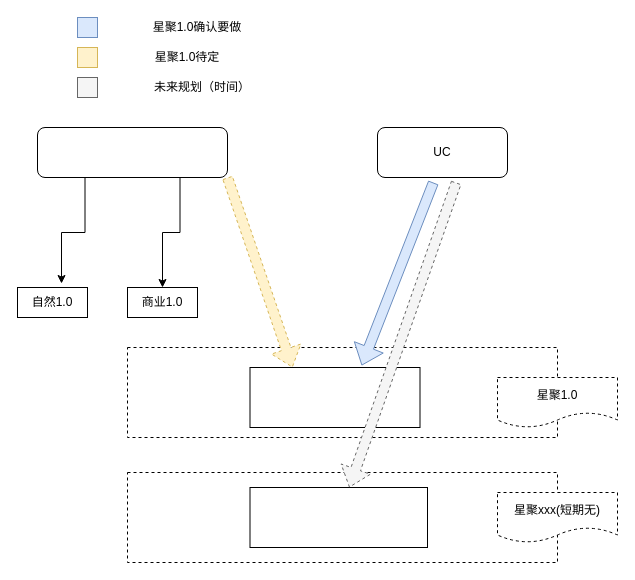
The diagram is 635 pixels wide and 580 high, and some of its shapes have lost their labels. Here are the shapes that lost their labels. From the top down, the centre of each, then its label:
At pixel 132 152: "PASS".
At pixel 334 397: "商业2,0".
At pixel 338 517: "自然2.0".
